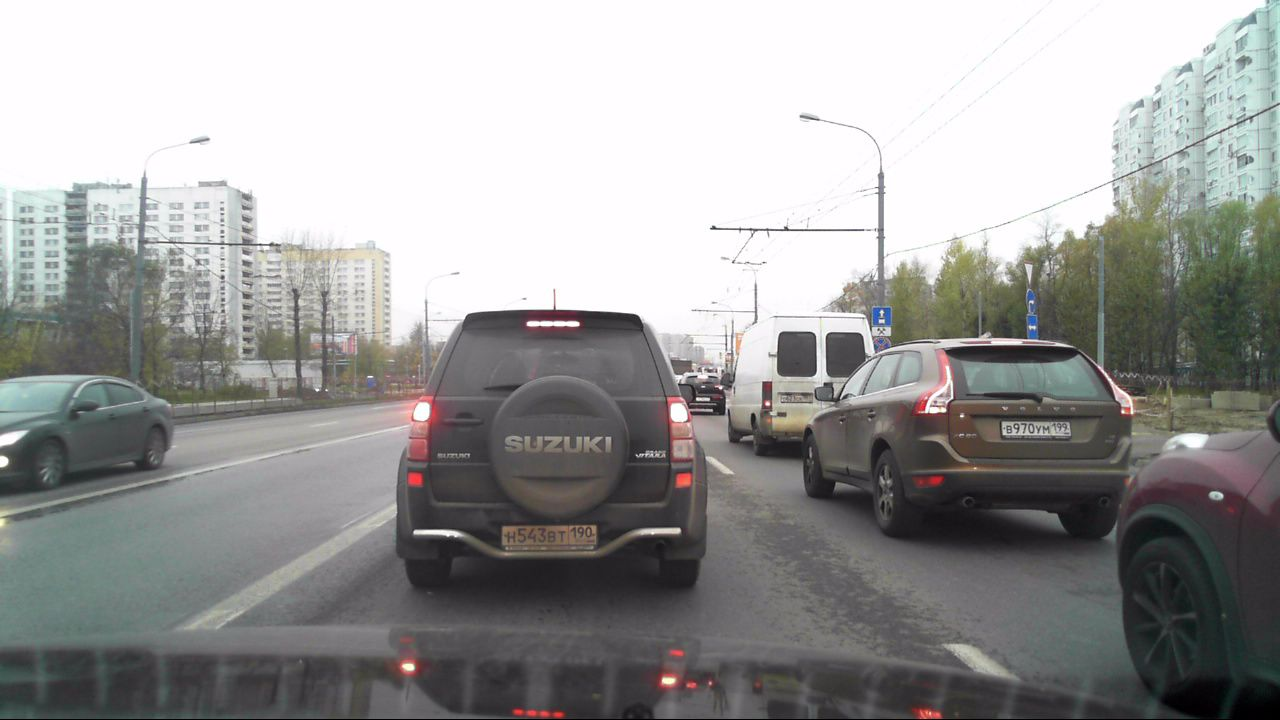No Parking: (874, 338, 891, 354)
